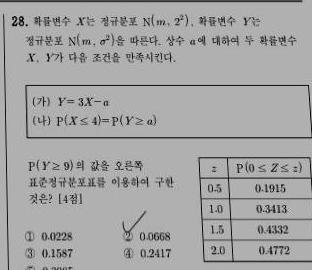choice: (120, 222, 136, 243)
not-choice: (122, 246, 134, 260), (23, 246, 36, 258), (23, 230, 35, 241)
